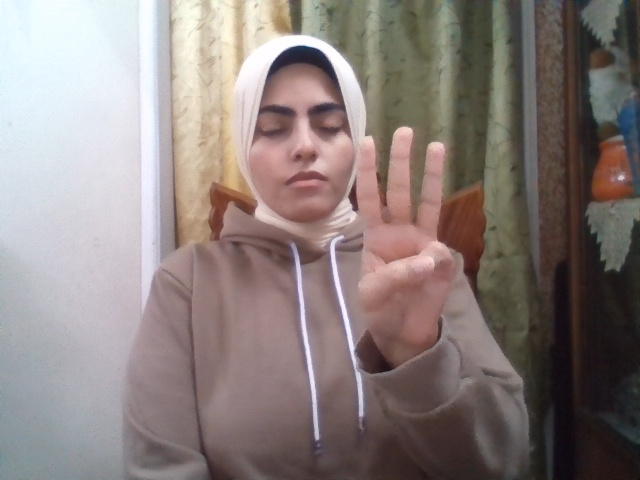W: (357, 126, 454, 346)
